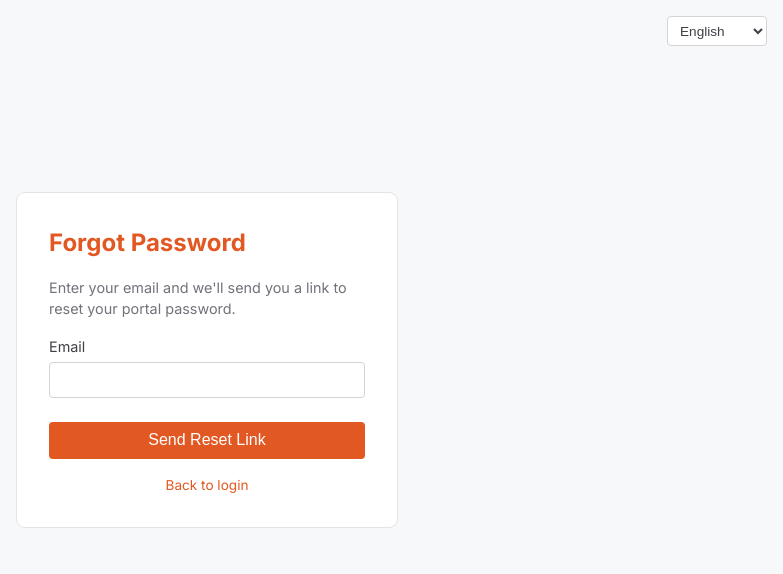
Test: PortalForgotPassword page › shows an error message when the request fails
Step 1. Type "rejected@test.com" into the field labelled "Email" → (207, 380), box [49, 362, 365, 398]
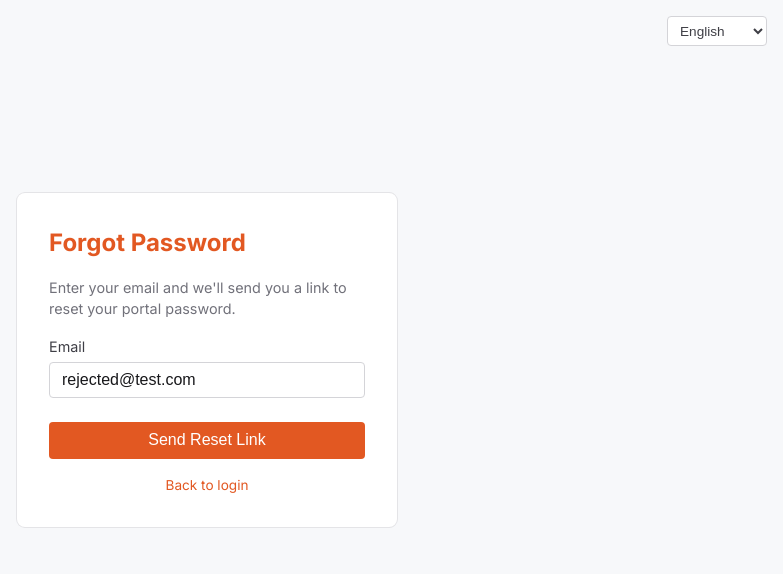
Step 2. Click the button "Send Reset Link" → (207, 440), box [49, 422, 365, 459]
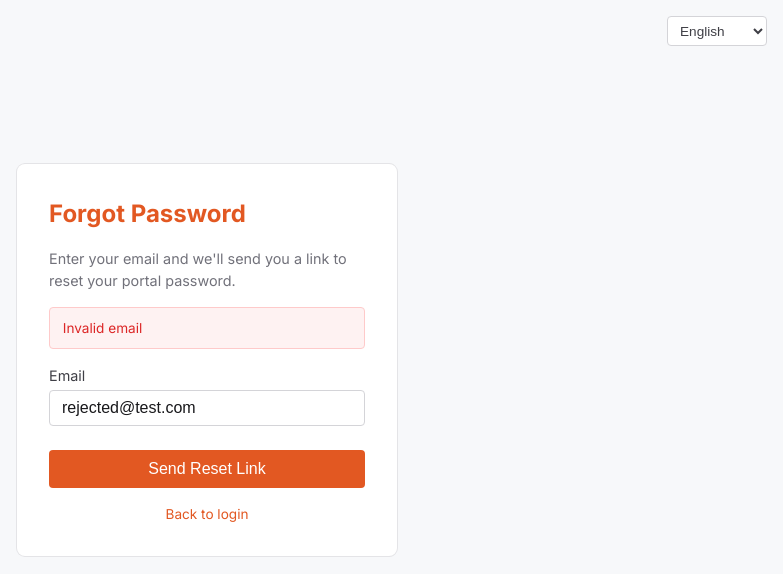
Check: the text "Invalid email" is shown, box [49, 307, 365, 349]
